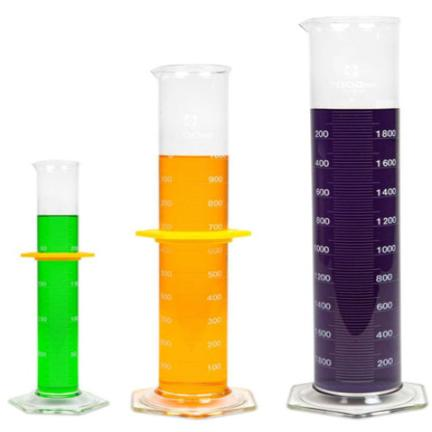container: (300, 18, 402, 394), (154, 63, 232, 402), (32, 160, 82, 398)
fluid: (313, 107, 400, 393), (155, 155, 232, 400), (32, 214, 81, 397)
